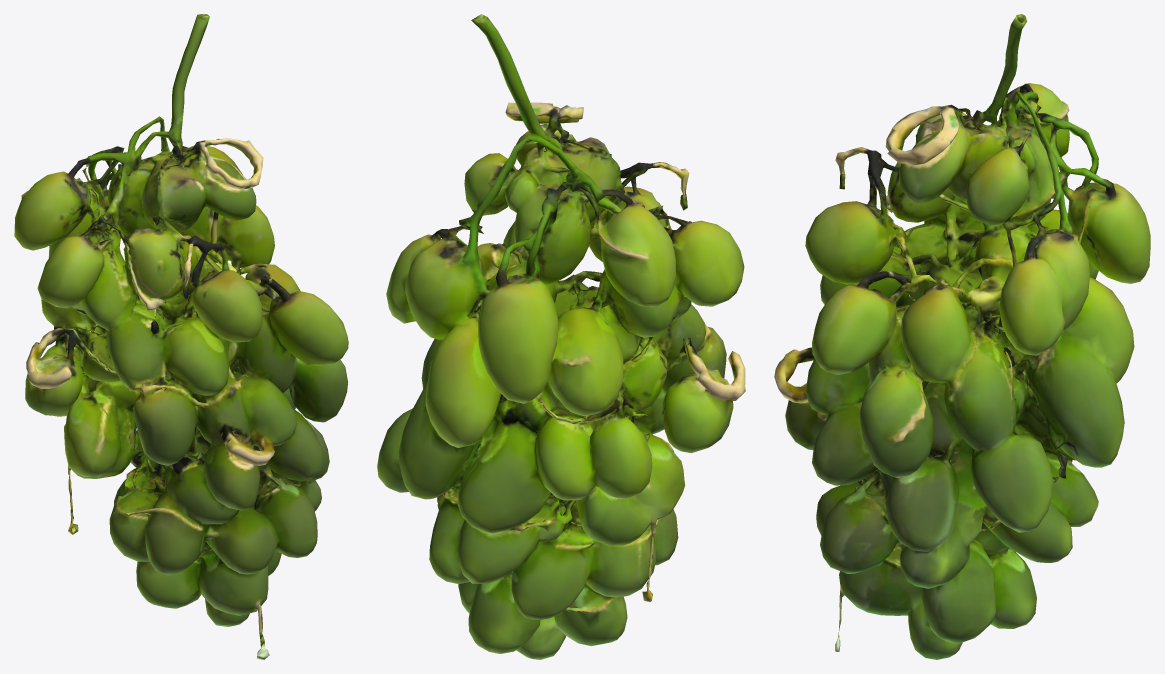
The model's file is Gilded_Bounty.glb.
3 renders of one model, left to right at view 1: azimuth 30°, elevation 25°; view 2: azimuth 150°, elevation 25°; view 3: azimuth 270°, elevation 25°, orthographic. The views are drawn at different scales.
Parts seen in each view (by area): view 1: Mesh1.0; view 2: Mesh1.0; view 3: Mesh1.0.
Boxes of the visible parts, x1=… form: Mesh1.0: x1=14, y1=14, x2=348, y2=659; Mesh1.0: x1=377, y1=14, x2=745, y2=659; Mesh1.0: x1=774, y1=14, x2=1150, y2=659.
Size of the model in its own units: 0.9922 by 1.91 by 1.01.
Materials: 1 (1 with a texture image).
